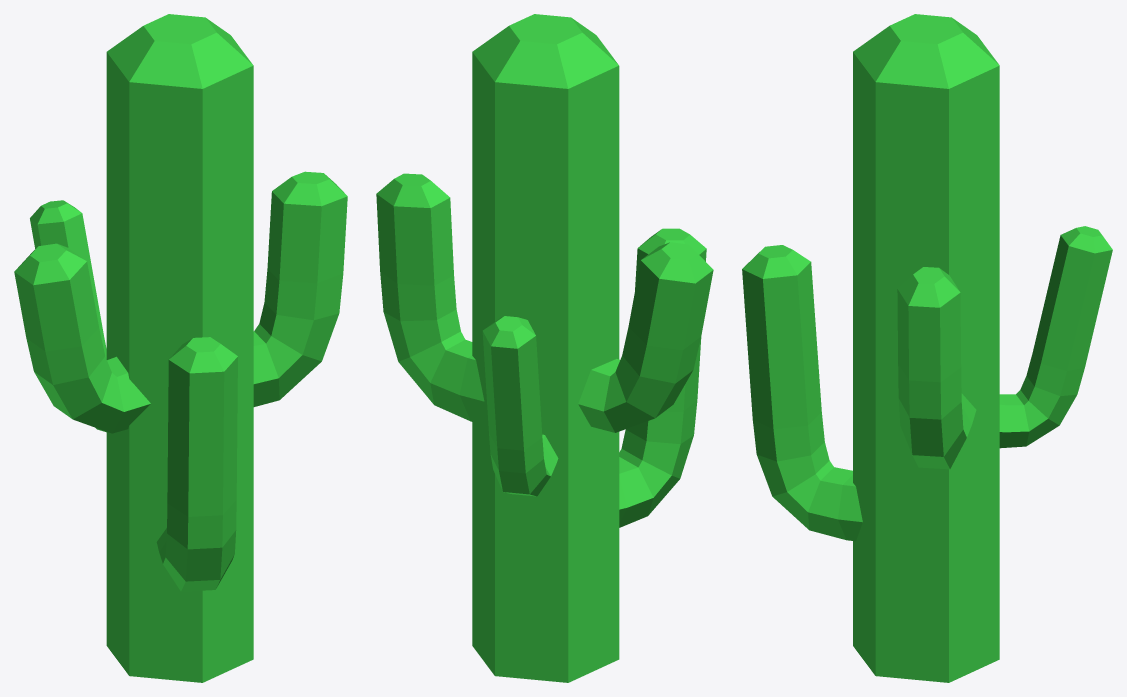
The model's file is Cactus2.fbx.
The picture shows the model from 3 angles, left to right: view 1: azimuth 30°, elevation 25°; view 2: azimuth 150°, elevation 25°; view 3: azimuth 270°, elevation 25°; orthographic projection.
Parts seen in each view (by area): view 1: xianrengzhang1; view 2: xianrengzhang1; view 3: xianrengzhang1.
Boxes of the visible parts, x1,y1,x2,y2 form: xianrengzhang1: (14,14,347,682); xianrengzhang1: (376,14,713,682); xianrengzhang1: (742,14,1112,682).
Size of the model in its own units: 4.34 by 8.07 by 4.35.
